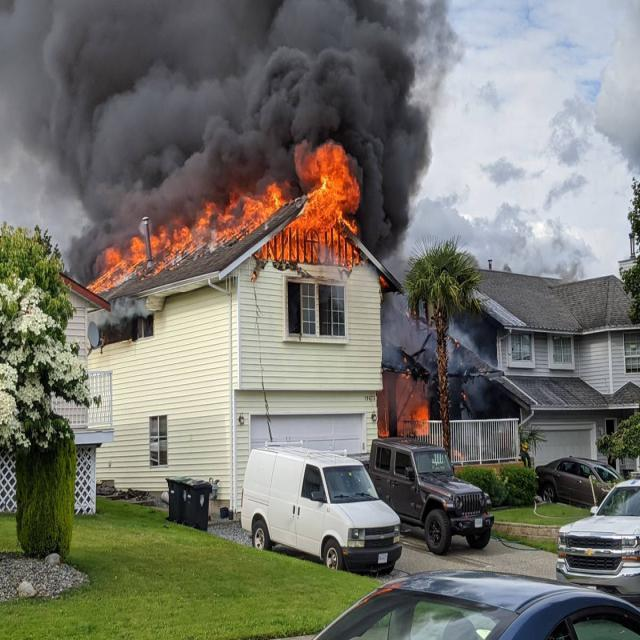Fire: (80, 189, 284, 292), (250, 148, 380, 271), (387, 377, 425, 440)
Smoke: (9, 0, 436, 240)
